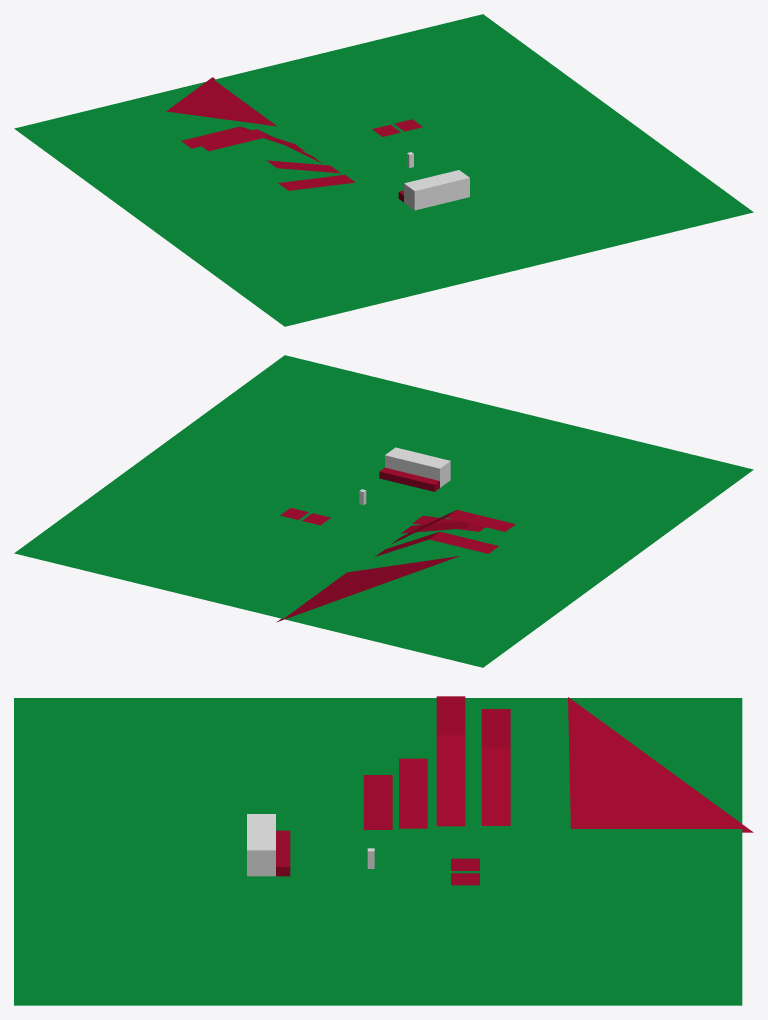
Rendered from playerArea.glb.
3 views of the same model, one above another, from view 1: azimuth 30°, elevation 25°; view 2: azimuth 150°, elevation 25°; view 3: azimuth 270°, elevation 25° (orthographic). The views are drawn at different scales.
Visible parts, largest first — view 1: Plane, Plane.007, Cube, Plane.005, Plane.003, Plane.006; view 2: Plane, Plane.007, Cube, Plane.006, Plane.005, Cube.001; view 3: Plane, Plane.007, Plane.005, Plane.006, Plane.004, Cube, Plane.003, Cube.001.
Boxes of the visible parts, box(x1,y1,x2,y2) form: Plane: box(14, 14, 753, 326); Plane.007: box(166, 77, 276, 126); Cube: box(404, 170, 469, 210); Plane.005: box(198, 129, 321, 163); Plane.003: box(278, 174, 355, 190); Plane.006: box(181, 126, 305, 151); Plane: box(14, 355, 753, 667); Plane.007: box(276, 556, 459, 622); Cube: box(385, 447, 450, 487); Plane.006: box(375, 531, 498, 556); Plane.005: box(392, 510, 515, 543); Cube.001: box(379, 467, 439, 491); Plane: box(14, 698, 742, 1005); Plane.007: box(568, 697, 753, 832); Plane.005: box(436, 696, 465, 826); Plane.006: box(481, 709, 510, 825); Plane.004: box(399, 758, 427, 828); Cube: box(247, 814, 275, 876); Plane.003: box(363, 775, 392, 829); Cube.001: box(276, 830, 290, 876).
Size of the model in its own units: 74.4 by 6.84 by 75.58.
